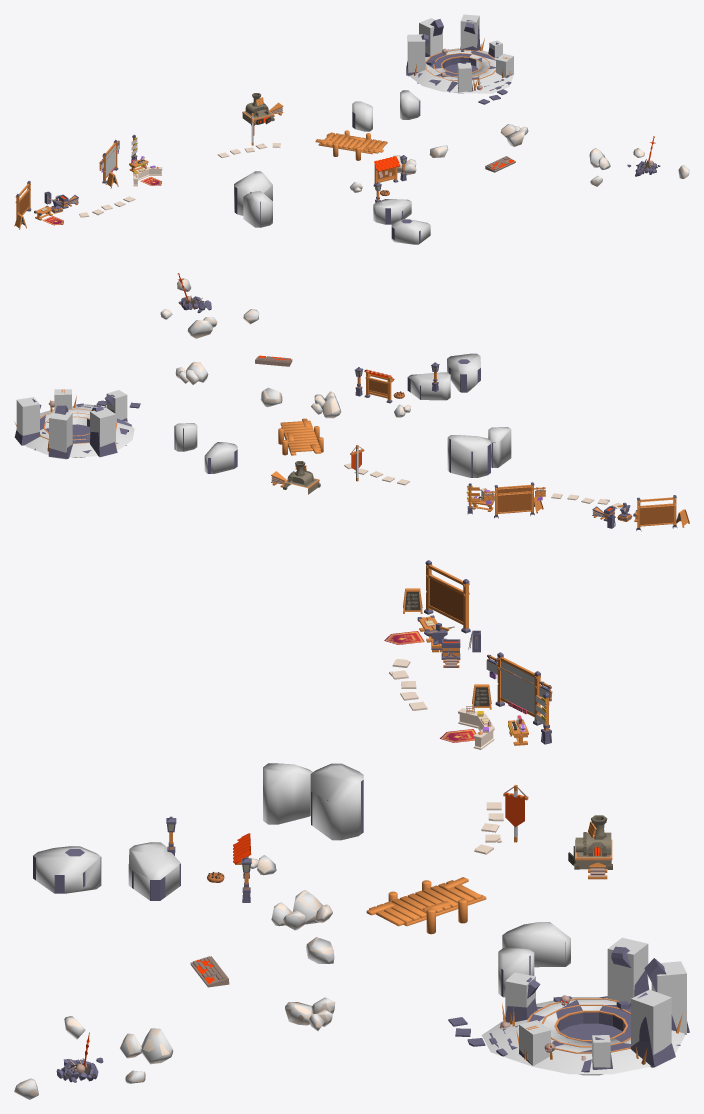
File: sceneryStatic.glb
3 renders of one model, top to bottom at view 1: azimuth 30°, elevation 25°; view 2: azimuth 150°, elevation 25°; view 3: azimuth 270°, elevation 25°, orthographic. The views are drawn at different scales.
Visible parts, largest first — view 1: trimesh.001, Cube.139, hull.016, Cylinder.021, hull.015, hull.011, hull.012, Cube.165, Cube.172, hull.014, Cube.146, Cube.164 (+5 smaller); view 2: hull.015, trimesh.001, Cube.139, Cube.172, hull.012, hull.011, Cube.164, Cube.146, hull.014, Cube.165, hull.016, Cylinder.022 (+9 smaller); view 3: trimesh.001, hull.015, Cube.139, hull.016, Cube.172, Cylinder.021, hull.011, hull.014, hull.012, Cube.146, Cube.165, Cube.164 (+8 smaller).
Part boxes in pixels (<box>): trimesh.001: <box>410,48,514,93</box>; Cube.139: <box>315,130,387,160</box>; hull.016: <box>243,191,272,227</box>; Cylinder.021: <box>426,51,511,90</box>; hull.015: <box>234,171,272,215</box>; hull.011: <box>391,219,430,244</box>; hull.012: <box>373,199,411,224</box>; Cube.165: <box>407,34,425,76</box>; Cube.172: <box>406,19,498,92</box>; hull.014: <box>352,101,372,131</box>; Cube.146: <box>460,14,479,49</box>; Cube.164: <box>419,18,442,55</box>; hull.015: <box>447,435,490,477</box>; trimesh.001: <box>25,404,134,457</box>; Cube.139: <box>278,418,323,455</box>; Cube.172: <box>14,394,127,458</box>; hull.012: <box>408,372,450,400</box>; hull.011: <box>447,353,480,392</box>; Cube.164: <box>49,410,72,459</box>; Cube.146: <box>16,397,39,445</box>; hull.014: <box>204,442,237,473</box>; Cube.165: <box>90,407,115,457</box>; hull.016: <box>488,427,511,467</box>; Cylinder.022: <box>174,359,495,477</box>; trimesh.001: <box>481,997,684,1075</box>; hull.015: <box>310,763,363,840</box>; Cube.139: <box>366,877,486,934</box>; hull.016: <box>263,763,312,824</box>; Cube.172: <box>505,946,689,1069</box>; Cylinder.021: <box>489,999,630,1056</box>; hull.011: <box>33,846,100,893</box>; hull.014: <box>502,922,570,967</box>; hull.012: <box>128,842,180,900</box>; Cube.146: <box>631,989,671,1067</box>; Cube.165: <box>607,937,648,1003</box>; Cube.164: <box>651,961,686,1034</box>.
Bounding box in the file's own units: 85 × 8.2 × 50.04.
24 materials, 3 textured.
